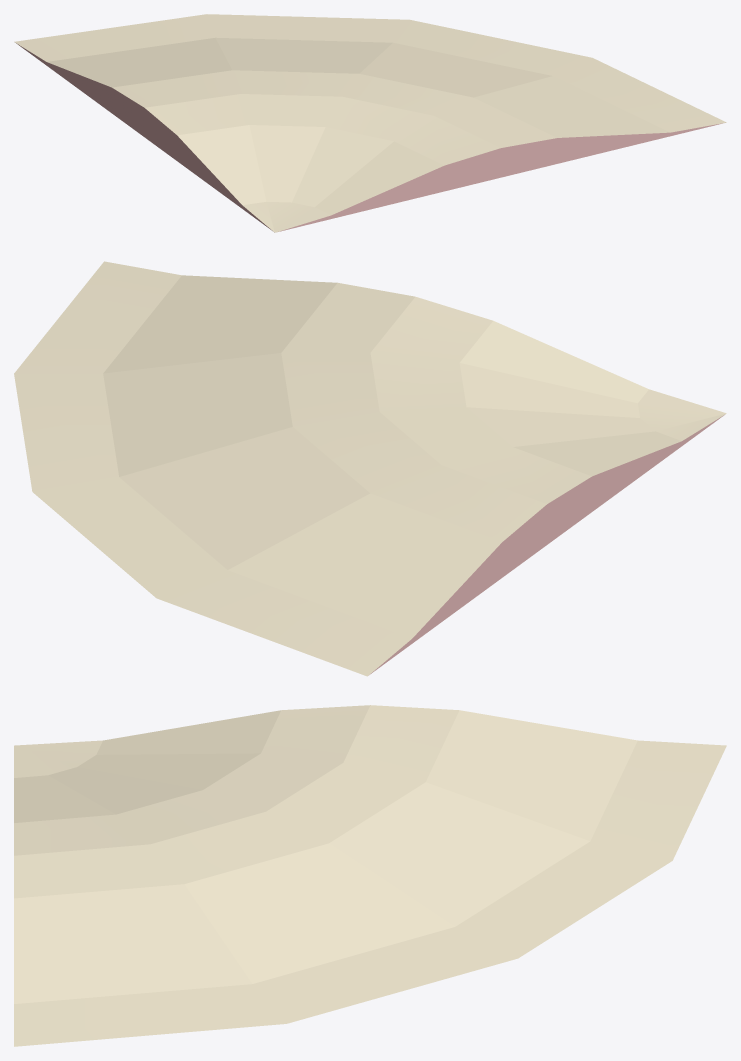
Rendered from Terrain_Sand_Incline_Curve_Both_8x8.glb.
The picture shows the model from 3 angles, top to bottom: view 1: azimuth 30°, elevation 25°; view 2: azimuth 150°, elevation 25°; view 3: azimuth 270°, elevation 25°; orthographic projection. The views are drawn at different scales.
Visible parts, largest first — view 1: Terrain_Sand_Incline_Curve_Both_8x8; view 2: Terrain_Sand_Incline_Curve_Both_8x8; view 3: Terrain_Sand_Incline_Curve_Both_8x8.
Part boxes in pixels (x1,y1,x2,y2): Terrain_Sand_Incline_Curve_Both_8x8: (14, 14, 726, 232); Terrain_Sand_Incline_Curve_Both_8x8: (14, 261, 726, 676); Terrain_Sand_Incline_Curve_Both_8x8: (14, 705, 726, 1046).
Bounding box in the file's own units: 800 × 50 × 800.
